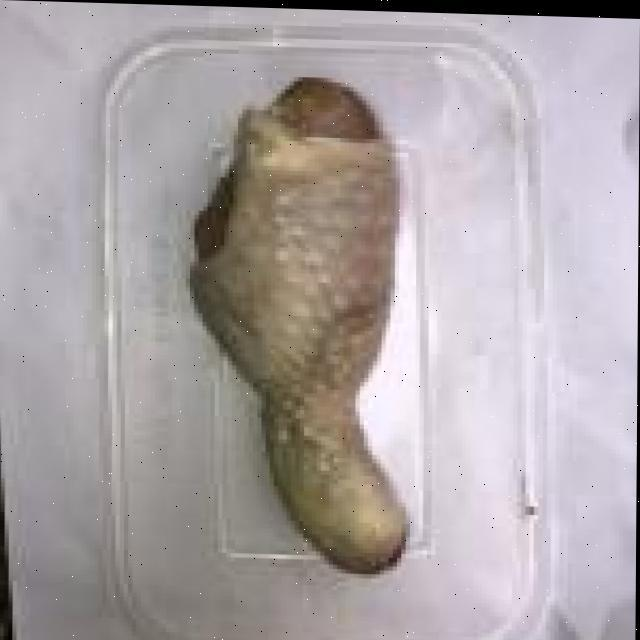leg: (191, 62, 434, 584)
